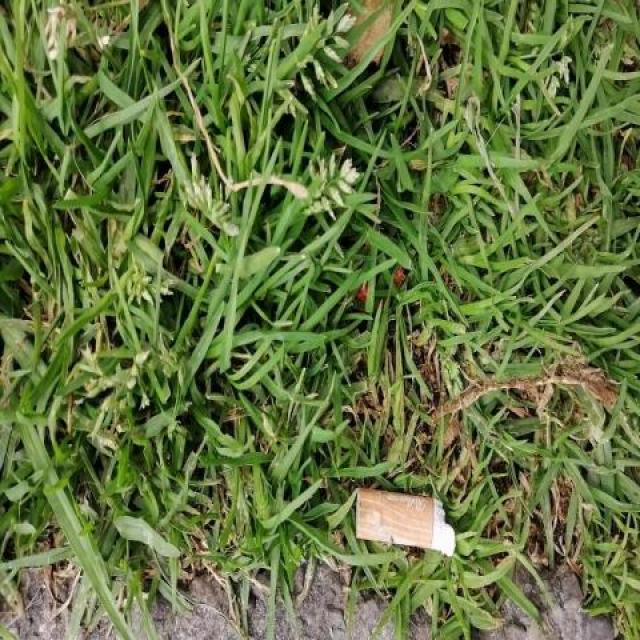non-organic waste: (352, 484, 460, 557)
